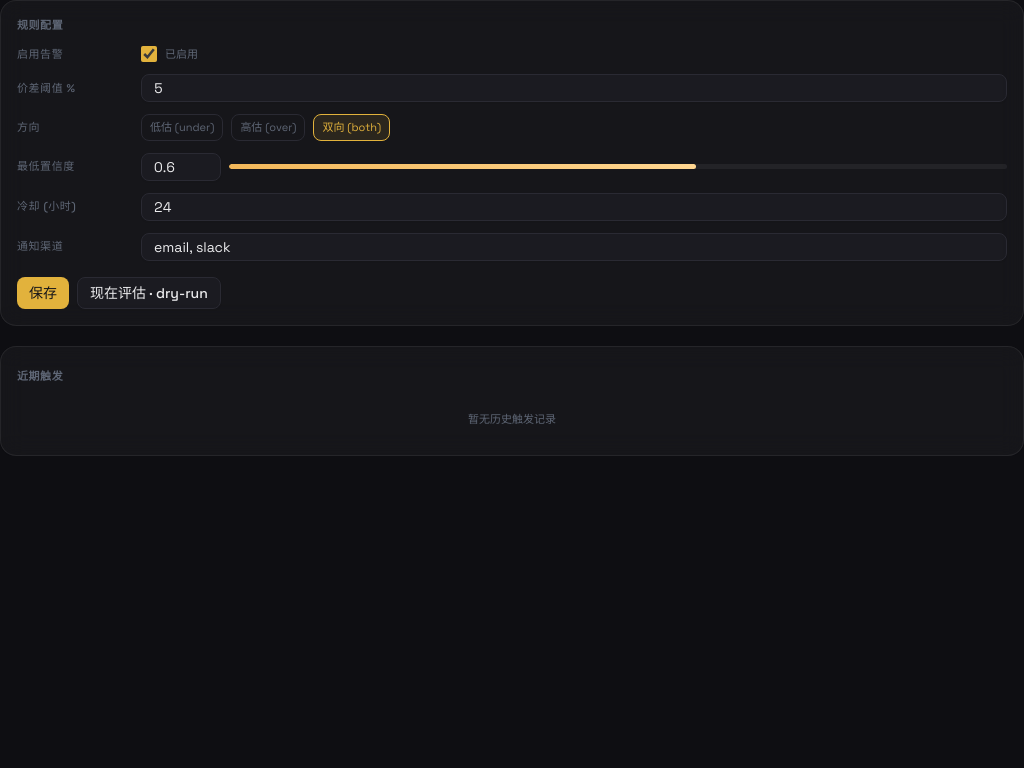
Test: MispricingAlertPanel › shows empty-state message when would_fire is empty
What coordinates should you click on to do the following:
click the button with test id "evaluate-btn"
I would click on:
 (149, 292)
Its box is [77,276,221,308].
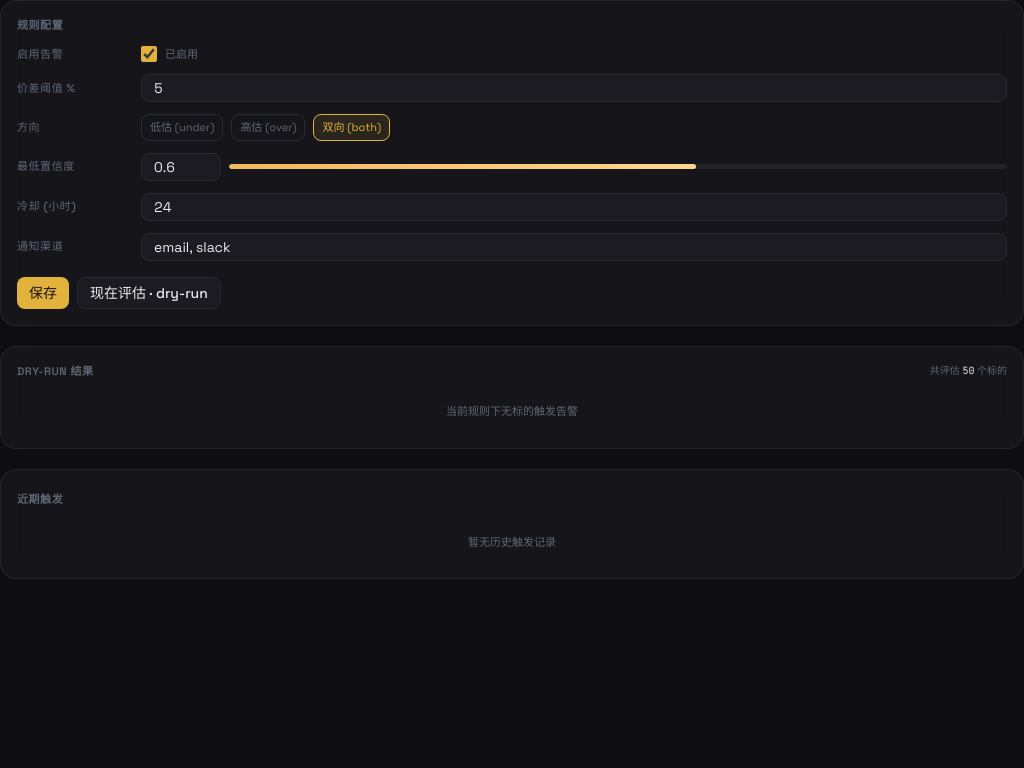
Expected: the text "当前规则下无标的触发告警" is shown, [446,404,578,418]
